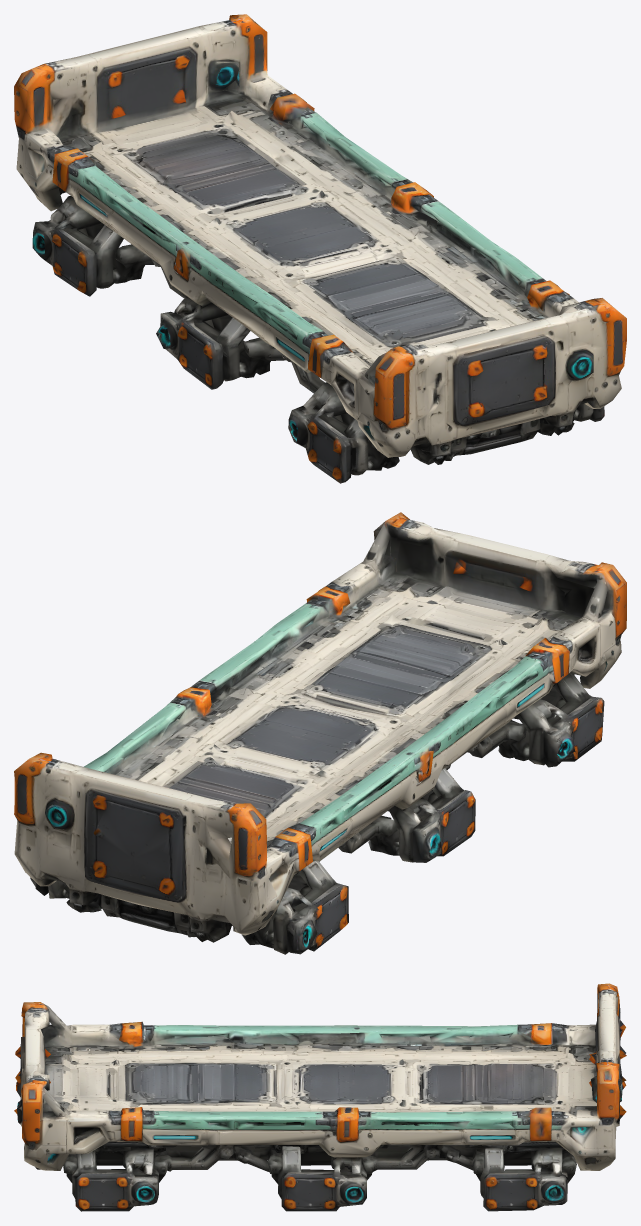
The model's file is futuristic cargo platform 3d model.glb.
3 renders of one model, top to bottom at view 1: azimuth 30°, elevation 25°; view 2: azimuth 150°, elevation 25°; view 3: azimuth 270°, elevation 25°, orthographic. The views are drawn at different scales.
Visible parts, largest first — view 1: tripo_node_e5fb8ead-819a-4d51-8304-9ad592ec347b; view 2: tripo_node_e5fb8ead-819a-4d51-8304-9ad592ec347b; view 3: tripo_node_e5fb8ead-819a-4d51-8304-9ad592ec347b.
Part boxes in pixels (x1,y1,x2,y2): tripo_node_e5fb8ead-819a-4d51-8304-9ad592ec347b: (14,14,626,483); tripo_node_e5fb8ead-819a-4d51-8304-9ad592ec347b: (14,512,626,954); tripo_node_e5fb8ead-819a-4d51-8304-9ad592ec347b: (14,983,626,1211).
Size of the model in its own units: 0.4167 by 0.2444 by 1.
1 material, 1 textured.
